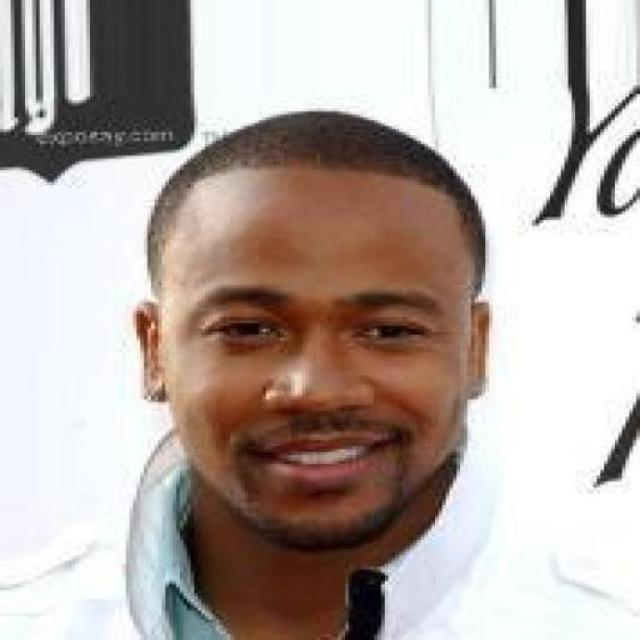bareface: (129, 122, 481, 502)
